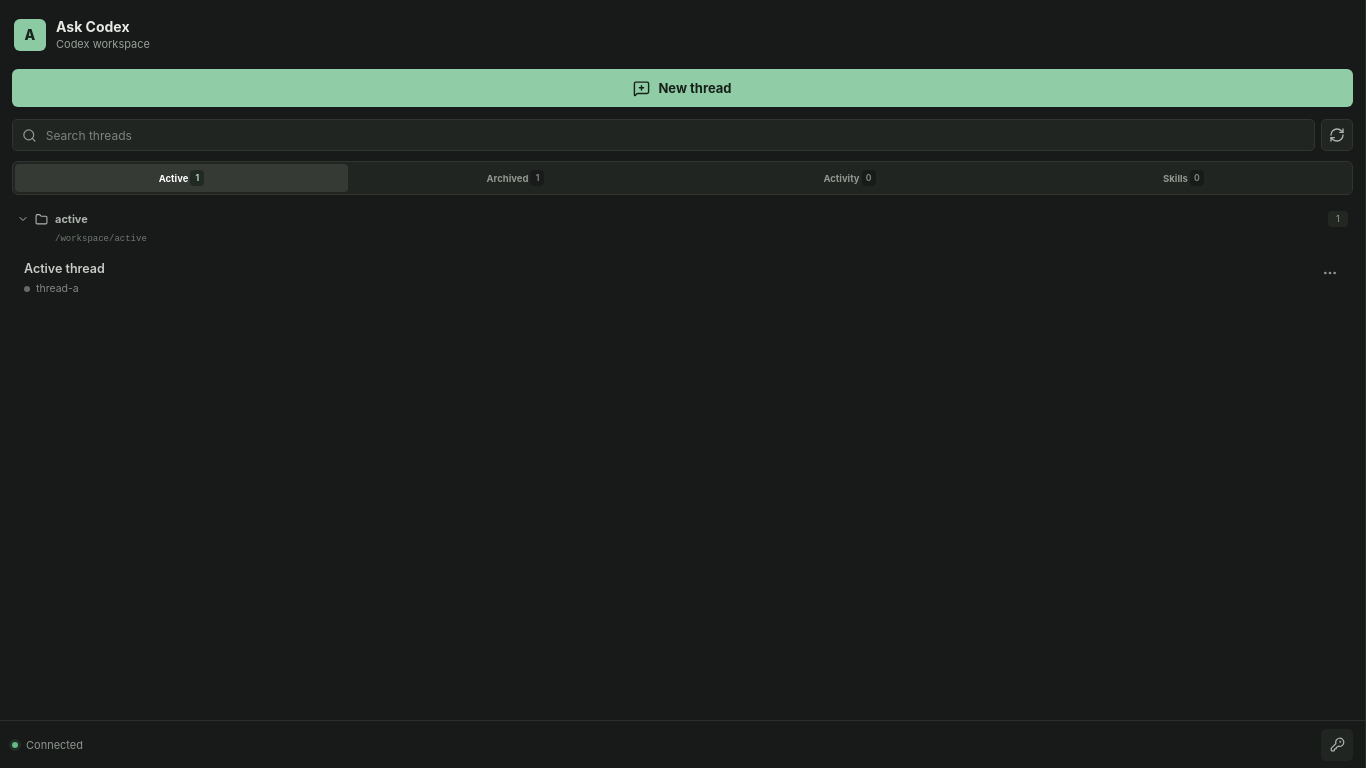
it: Sidebar thread lifecycle actions › disables both lifecycle actions with an accessible reason for an active thread
The image size is (1366, 768).
Right-click the button "Active thread thread-a": (64, 268) [12,251,1353,306]
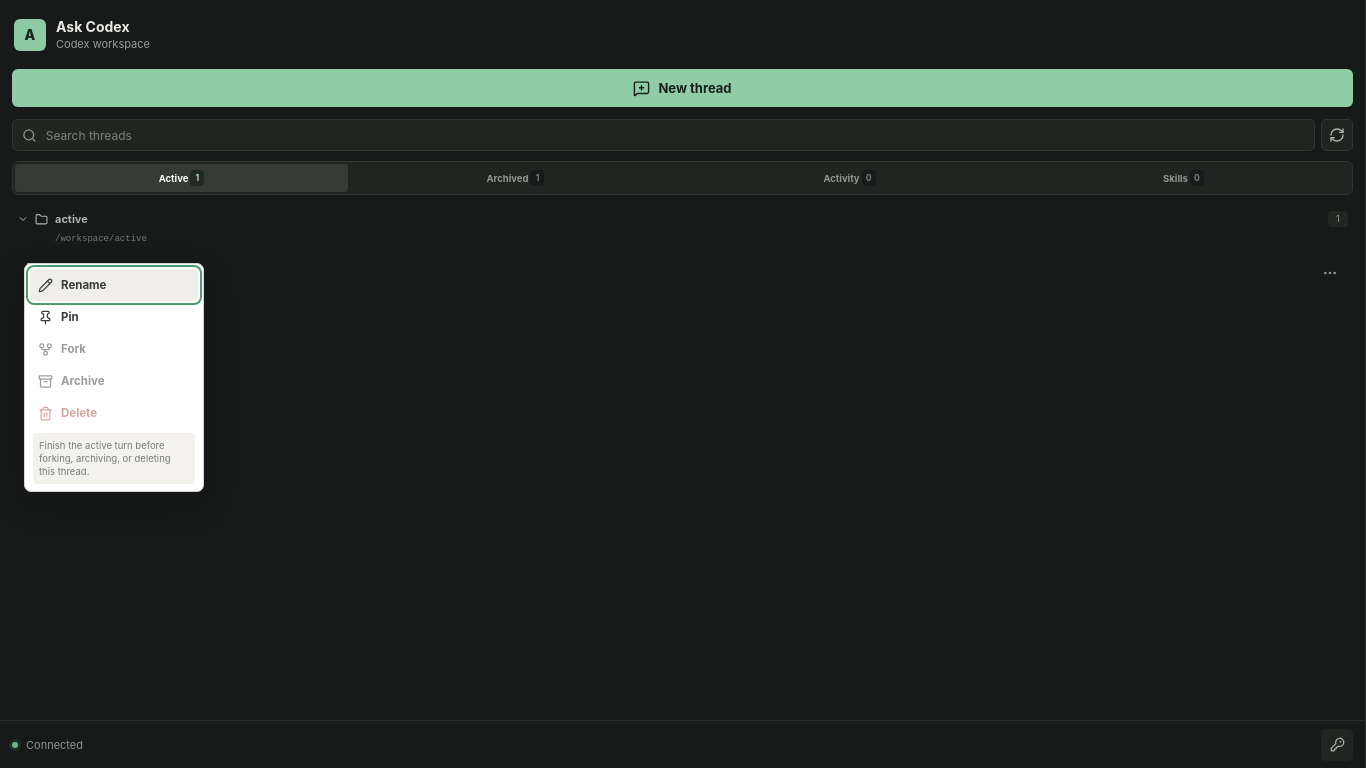
Now the menu item "Rename" is enabled, box [30,269,198,301]
Now the menu item "Pin" is enabled, box [30,301,198,333]
Now the menu item "Archive" is disabled, box [30,365,198,397]
